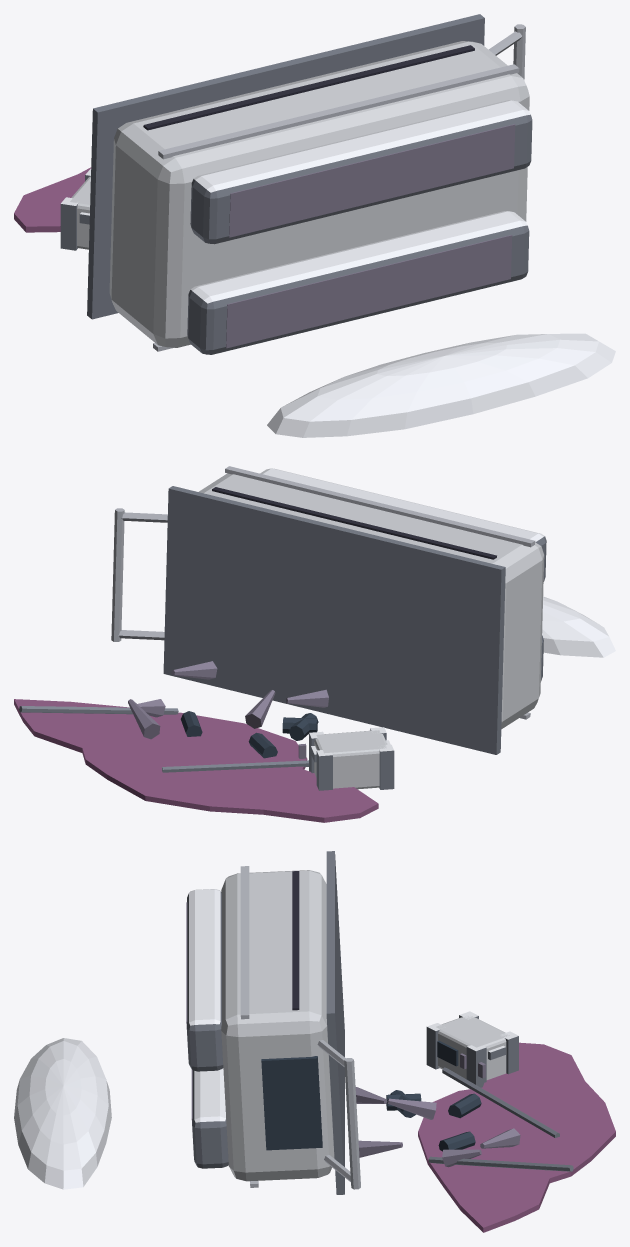
Rendered from PR_Carrinho_Feira_Tombado.fbx.
The picture shows the model from 3 angles, top to bottom: view 1: azimuth 30°, elevation 25°; view 2: azimuth 150°, elevation 25°; view 3: azimuth 270°, elevation 25°; orthographic projection. The views are drawn at different scales.
Parts seen in each view (by area): view 1: PR_Carrinho_Feira_Tombado; view 2: PR_Carrinho_Feira_Tombado; view 3: PR_Carrinho_Feira_Tombado.
Part boxes in pixels (x1=…): PR_Carrinho_Feira_Tombado: x1=14, y1=14, x2=615, y2=437; PR_Carrinho_Feira_Tombado: x1=14, y1=466, x2=615, y2=822; PR_Carrinho_Feira_Tombado: x1=14, y1=851, x2=615, y2=1232.
Bounding box in the file's own units: 3.38 × 1.45 × 4.26.
